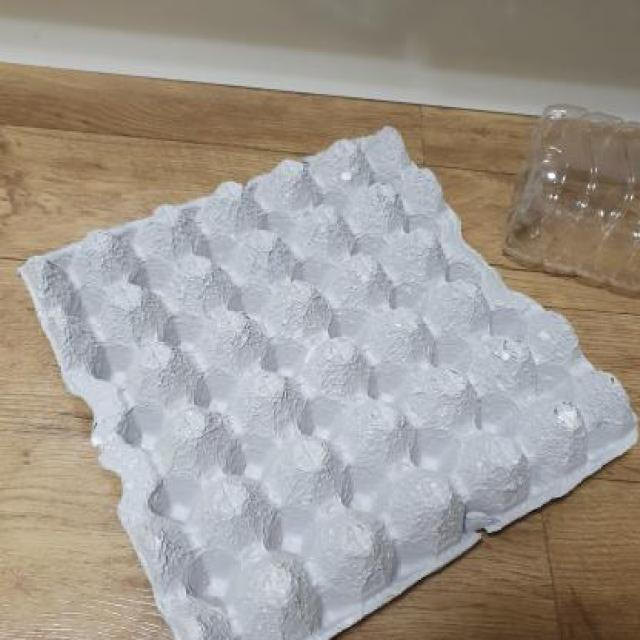box: (6, 105, 639, 640)
